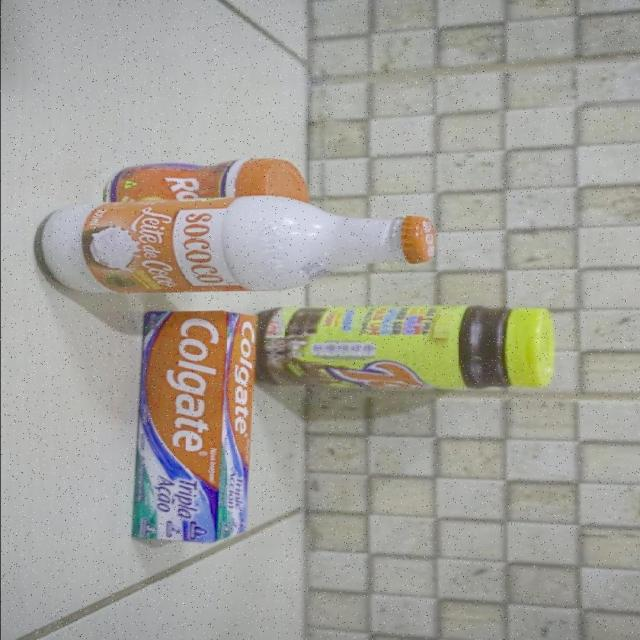ChocolatePowder: (251, 306, 554, 389)
CoconutMilk: (39, 196, 437, 293)
Toothpaste: (133, 312, 255, 543)
Yeast: (104, 159, 307, 201)
